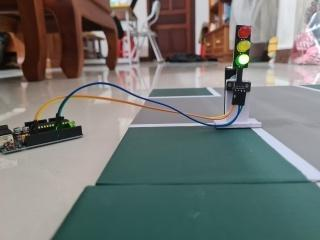green: (223, 19, 258, 87)
